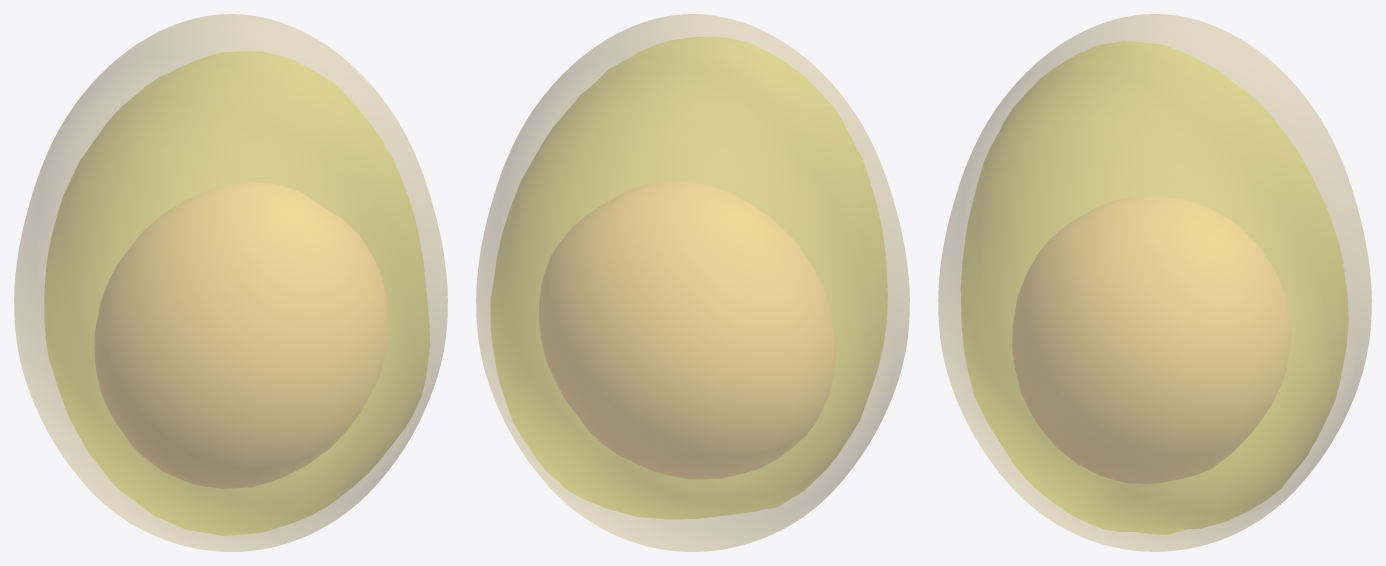
File: egg_smooth-v1.glb
The picture shows the model from 3 angles, left to right: view 1: azimuth 30°, elevation 25°; view 2: azimuth 150°, elevation 25°; view 3: azimuth 270°, elevation 25°; orthographic projection.
Visible parts, largest first — view 1: Egg_Shell, Egg_White, Egg_Yolk; view 2: Egg_Shell, Egg_White, Egg_Yolk; view 3: Egg_Shell, Egg_White, Egg_Yolk.
Boxes of the visible parts, bbox=[...] form: Egg_Shell: bbox=[14, 14, 447, 551]; Egg_White: bbox=[44, 51, 429, 535]; Egg_Yolk: bbox=[94, 183, 387, 488]; Egg_Shell: bbox=[476, 14, 909, 551]; Egg_White: bbox=[491, 37, 887, 518]; Egg_Yolk: bbox=[539, 181, 835, 478]; Egg_Shell: bbox=[938, 14, 1371, 551]; Egg_White: bbox=[961, 41, 1348, 534]; Egg_Yolk: bbox=[1012, 196, 1290, 483].
Size of the model in its own units: 0.1165 by 0.15 by 0.1165.
